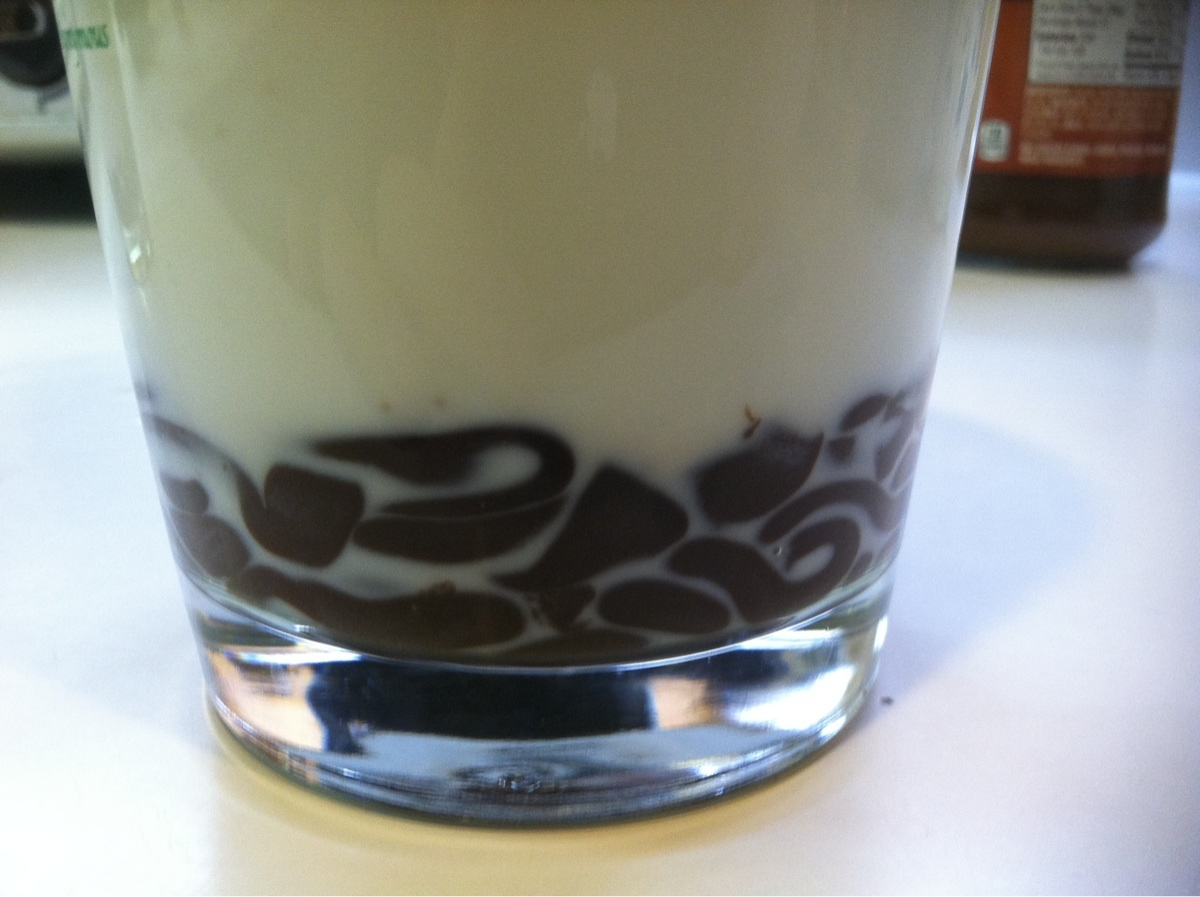glass of milk: (54, 14, 993, 837)
